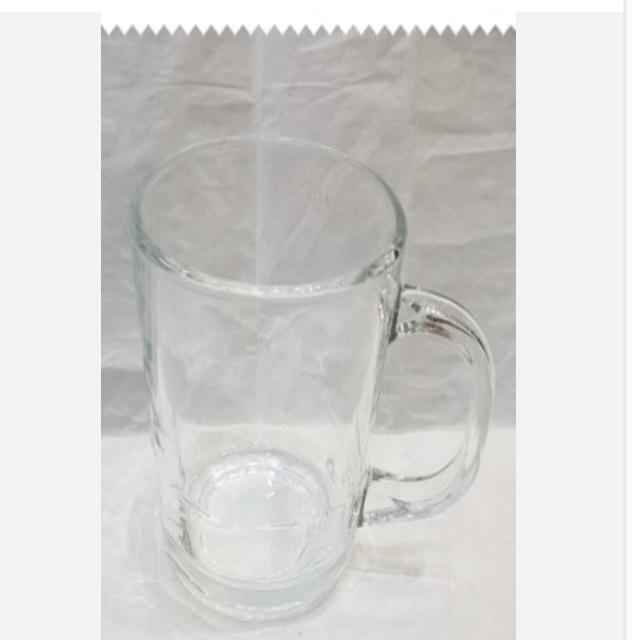recyclable: (122, 100, 508, 632)
